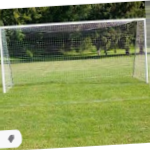goals: (1, 17, 150, 91)
